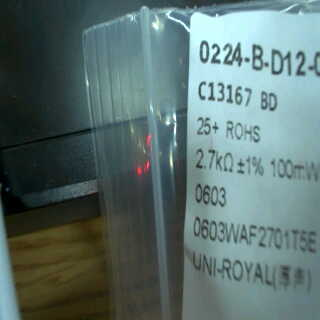2.7kR: (192, 146, 236, 176)
